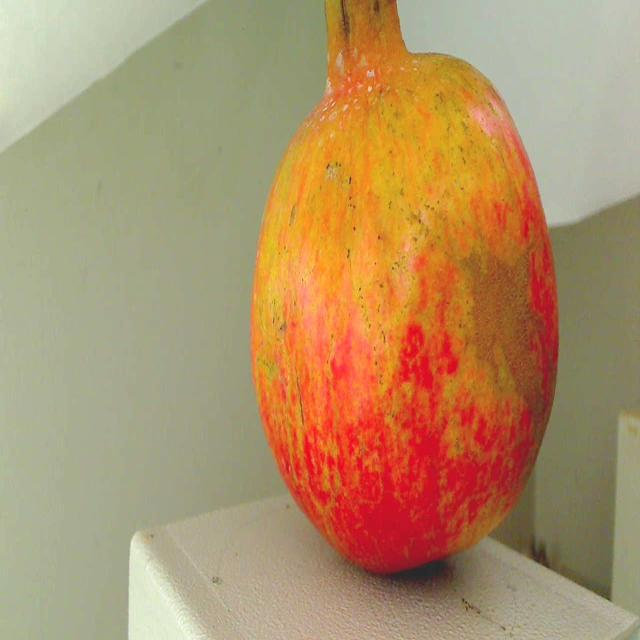pomegranate: (235, 0, 567, 569)
